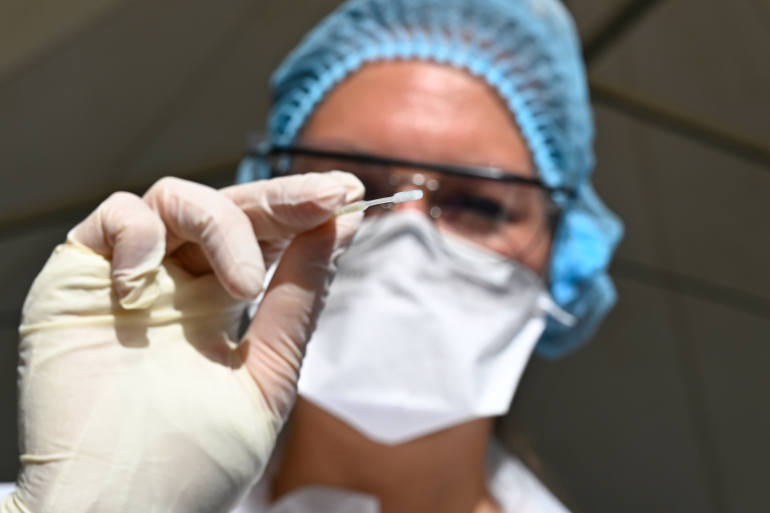Gloves: (8, 161, 378, 513)
with_mask: (268, 137, 561, 438)
